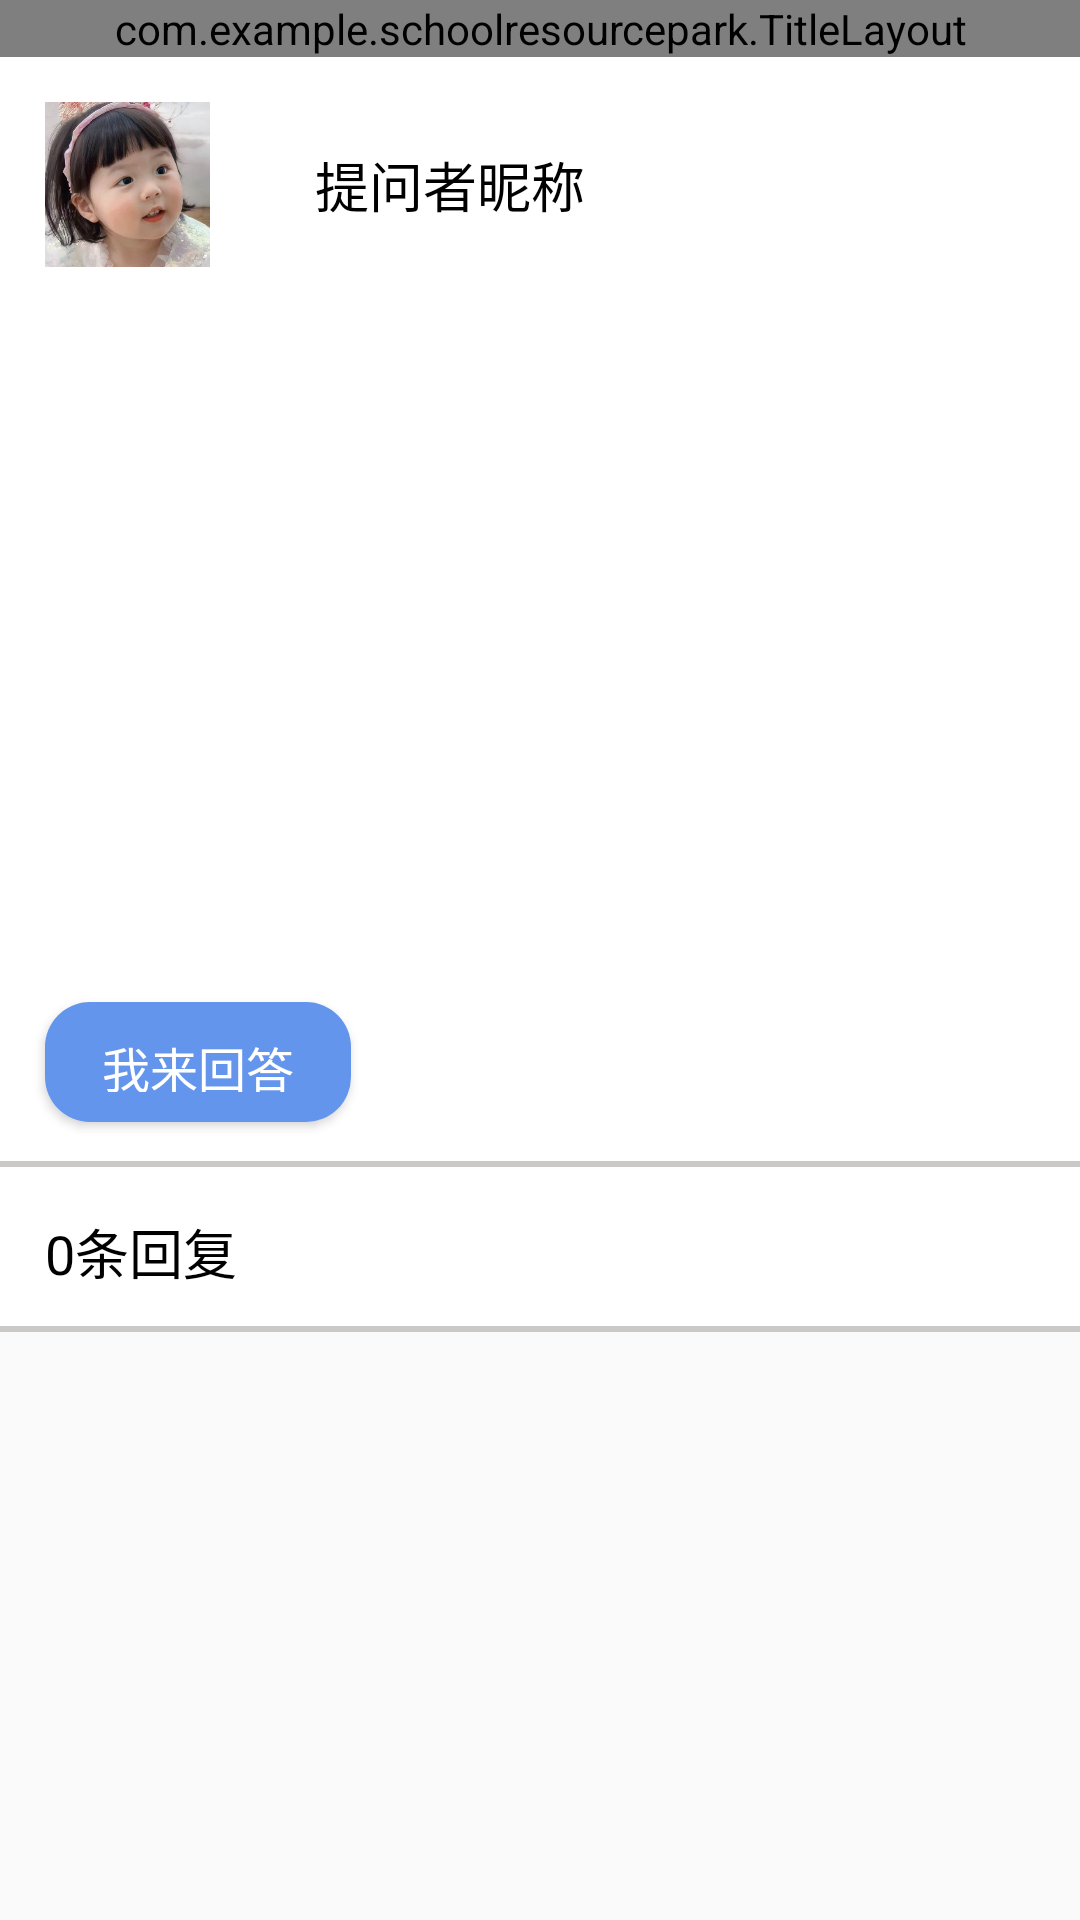

Point at icon controls on the screen. Image size 1080×1920, points as point (x, y).
head: point (127, 184)
